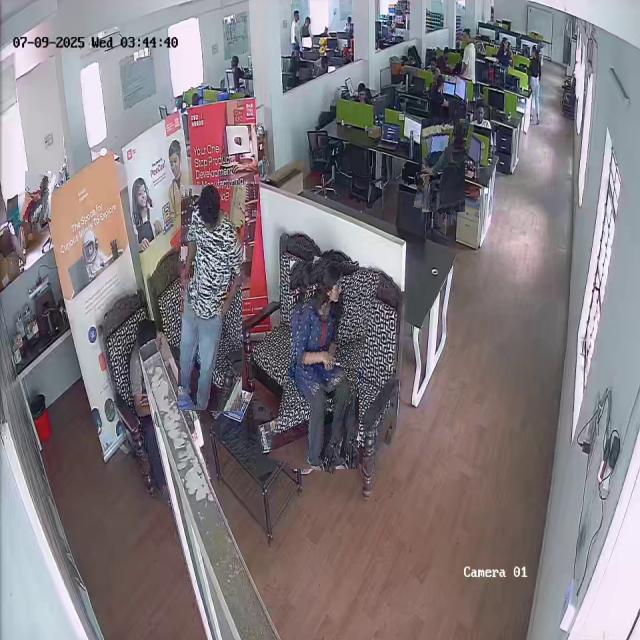person: (279, 258, 370, 472), (179, 185, 244, 412), (418, 118, 470, 214), (22, 170, 54, 223), (528, 45, 546, 124), (455, 28, 476, 78)
